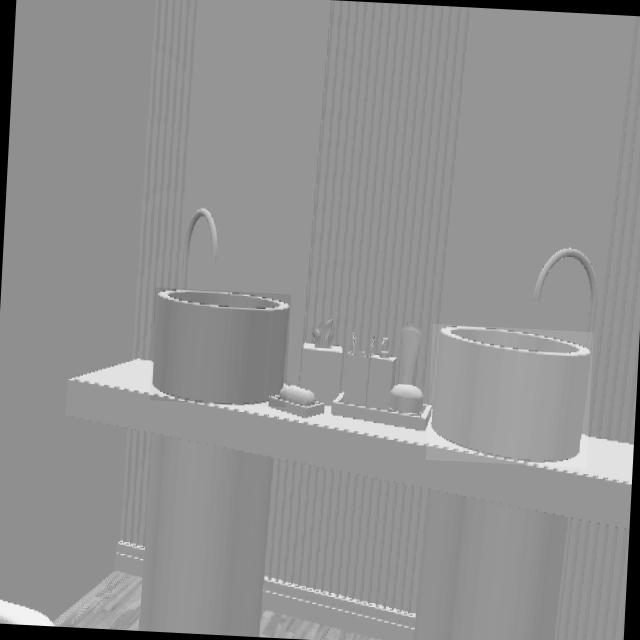washbasin: (429, 326, 592, 465), (152, 289, 290, 406)
